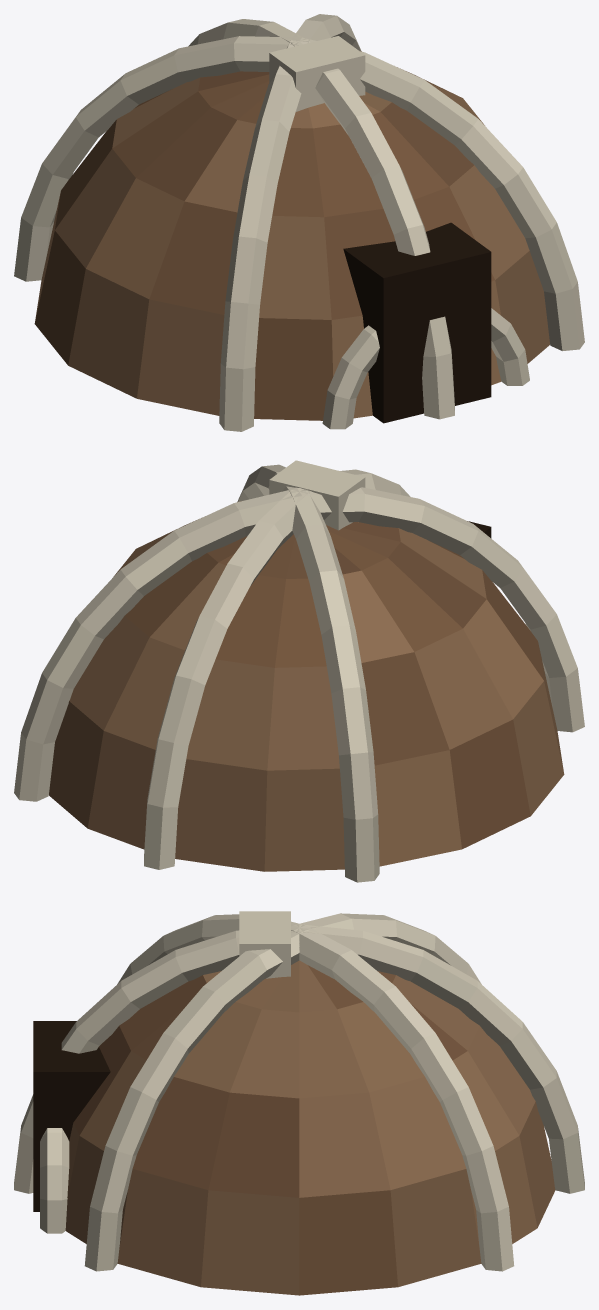
File: hut_bone.glb
The picture shows the model from 3 angles, top to bottom: view 1: azimuth 30°, elevation 25°; view 2: azimuth 150°, elevation 25°; view 3: azimuth 270°, elevation 25°; orthographic projection. The views are drawn at different scales.
Visible parts, largest first — view 1: hut_bone; view 2: hut_bone; view 3: hut_bone.
Part boxes in pixels (x1,y1,x2,y2): hut_bone: [14, 14, 584, 431]; hut_bone: [14, 460, 584, 882]; hut_bone: [14, 911, 584, 1295].
Size of the model in its own units: 6 by 3.33 by 6.65.
